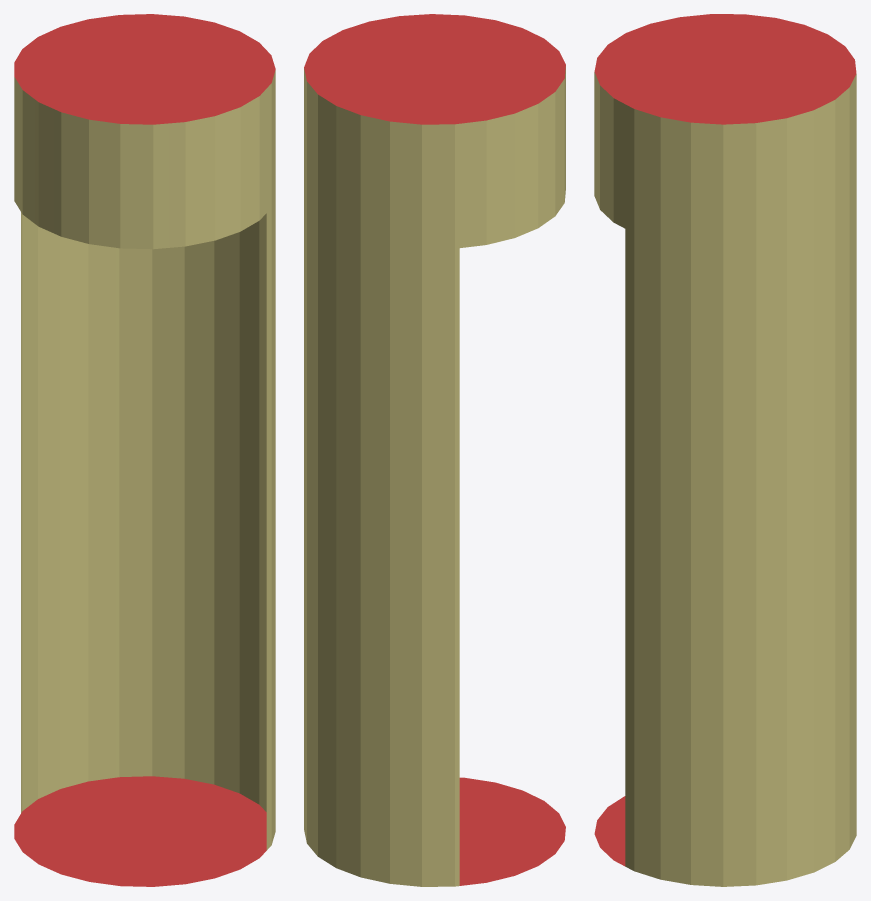
The picture shows the model from 3 angles, left to right: view 1: azimuth 30°, elevation 25°; view 2: azimuth 150°, elevation 25°; view 3: azimuth 270°, elevation 25°; orthographic projection.
Size of the model in its own units: 2.74 by 2.74 by 8.81.
